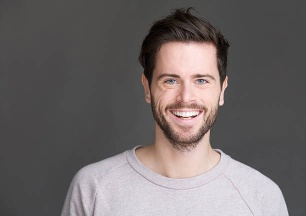male: (145, 41, 229, 149)
